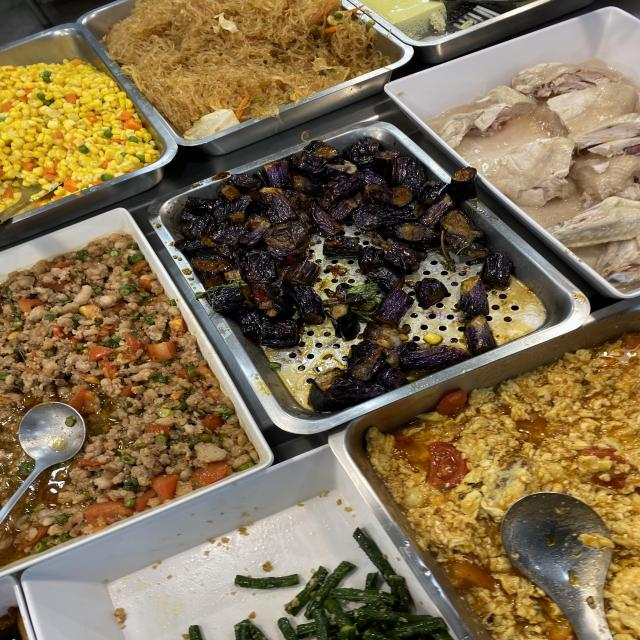Ants climbing the tree: (153, 8, 324, 83)
eggplant: (241, 176, 419, 237)
